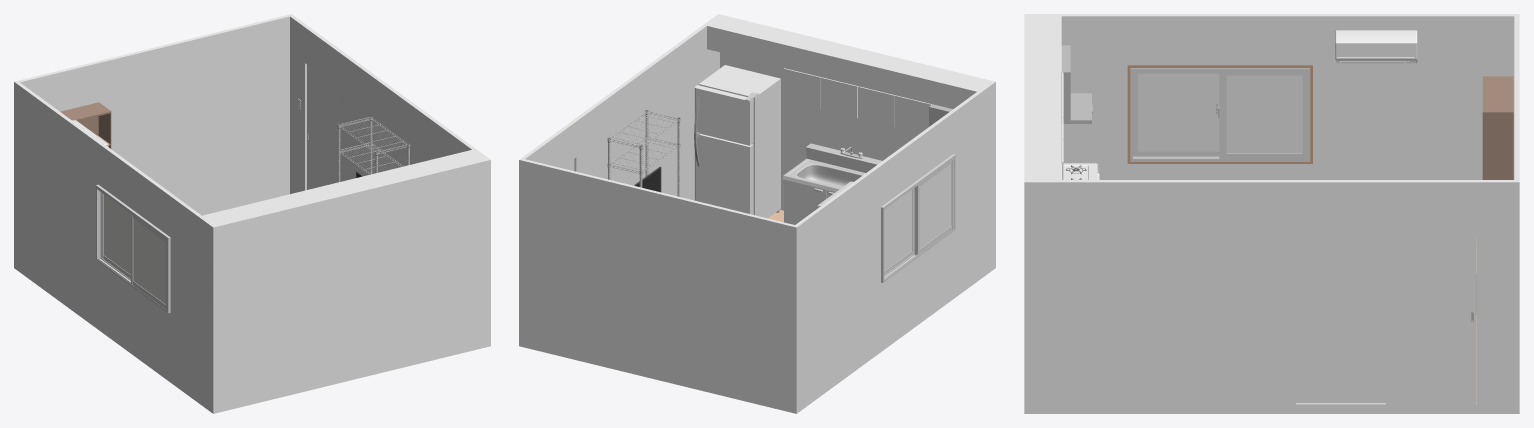
Rendered from 175_ダイニングキッチンview.glb.
3 views of the same model, side by side, from view 1: azimuth 30°, elevation 25°; view 2: azimuth 150°, elevation 25°; view 3: azimuth 270°, elevation 25° (orthographic). The views are drawn at different scales.
Parts seen in each view (by area): view 1: 南壁, 北壁, 西壁, 東壁, 引き戸, 左, 右, スチールラック, 窓枠, 064_本棚; view 2: 北壁, 西壁, 南壁, 東壁, 027_冷蔵庫, 左, キッチン, スチールラック, 右, 扉1.001, 右扉, 窓枠 (+3 smaller); view 3: 東壁, 西壁, 引き戸, 南壁, 右, 左, 064_本棚, 016_エアコン, 北壁, 窓枠, 168_レンジフード, コンロ.
Boxes of the visible parts, <box> form: 南壁: <box>199,149,490,413</box>; 北壁: <box>14,14,293,269</box>; 西壁: <box>16,82,212,411</box>; 東壁: <box>290,15,487,193</box>; 引き戸: <box>307,65,341,189</box>; 左: <box>131,214,167,309</box>; 右: <box>101,192,130,278</box>; スチールラック: <box>337,115,410,182</box>; 窓枠: <box>96,184,170,313</box>; 064_本棚: <box>60,102,111,148</box>; 北壁: <box>519,158,798,413</box>; 西壁: <box>795,82,993,411</box>; 南壁: <box>704,14,995,269</box>; 東壁: <box>521,16,719,200</box>; 027_冷蔵庫: <box>694,65,780,218</box>; 左: <box>914,159,954,255</box>; キッチン: <box>782,143,881,192</box>; スチールラック: <box>607,110,680,196</box>; 右: <box>884,188,914,275</box>; 扉1.001: <box>784,180,826,224</box>; 右扉: <box>820,77,857,118</box>; 窓枠: <box>881,154,955,282</box>; 東壁: <box>1029,180,1514,413</box>; 西壁: <box>1030,14,1514,237</box>; 引き戸: <box>1386,226,1476,404</box>; 南壁: <box>1024,14,1061,413</box>; 右: <box>1218,71,1307,158</box>; 左: <box>1133,71,1219,156</box>; 064_本棚: <box>1482,76,1513,179</box>; 016_エアコン: <box>1335,30,1417,63</box>; 北壁: <box>1514,14,1519,413</box>; 窓枠: <box>1130,68,1310,161</box>; 168_レンジフード: <box>1061,45,1092,123</box>; コンロ: <box>1061,163,1099,179</box>.
Size of the model in its own units: 3.77 by 2.4 by 4.65.
